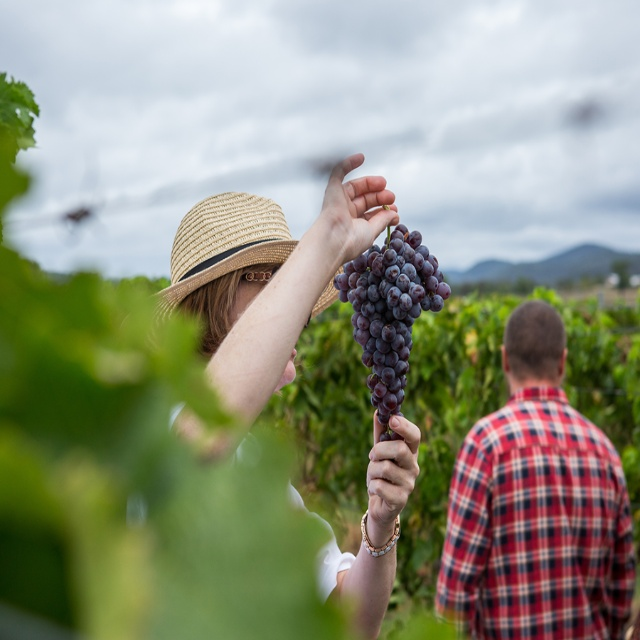grape: (331, 224, 453, 437)
